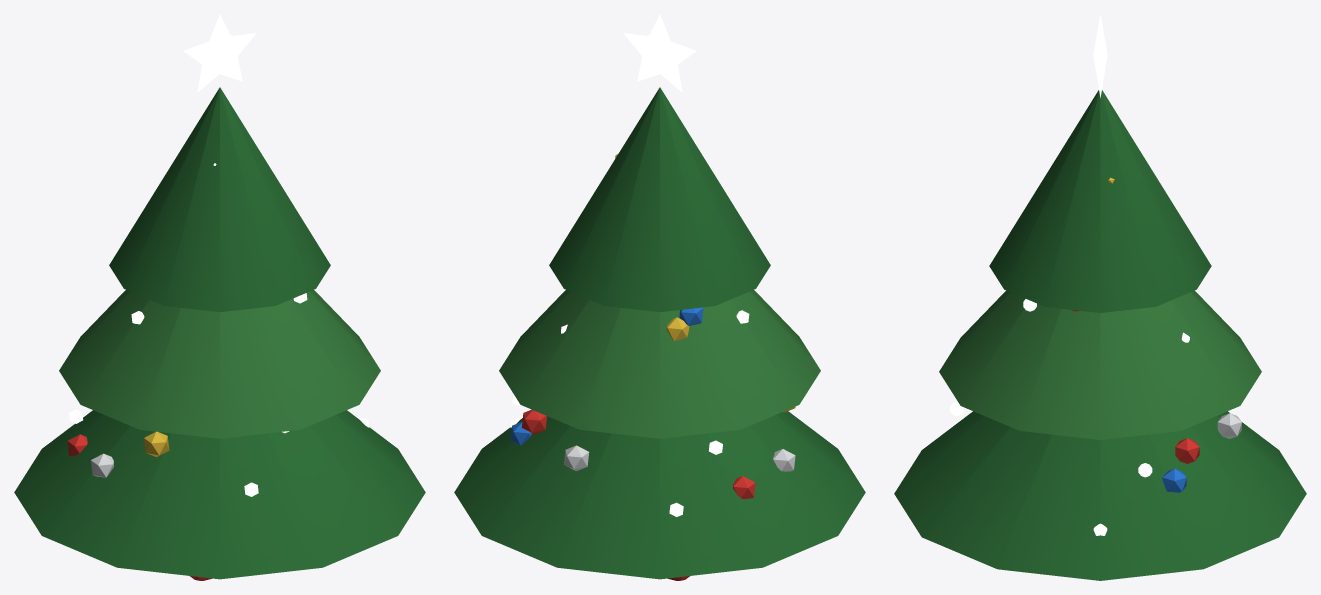
File: lo_xmas_tree.glb
The picture shows the model from 3 angles, left to right: view 1: azimuth 30°, elevation 25°; view 2: azimuth 150°, elevation 25°; view 3: azimuth 270°, elevation 25°; orthographic projection.
Visible parts, largest first — view 1: body, pulse_lights_glow; view 2: body, pulse_lights_glow; view 3: body, pulse_lights_glow.
Part boxes in pixels (x1,y1,x2,y2): body: (14,87,425,580); pulse_lights_glow: (69,14,369,496); body: (454,87,865,580); pulse_lights_glow: (510,14,749,516); body: (894,90,1306,580); pulse_lights_glow: (950,14,1234,535).
Bounding box in the file's own units: 2.3 × 3.3 × 2.3.
